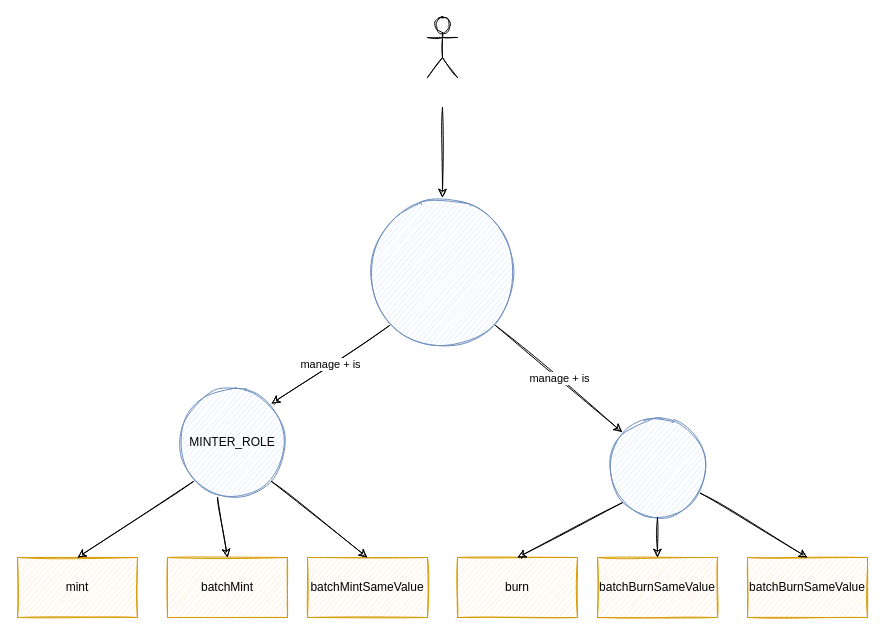
Some shapes in this 885 by 635 pixel diagram are drawn without their labels. Here are the shapes that lost their labels. From the top down, the centre of each, then its label:
At pixel 442 47: "Admin (Can be several Ethereum accounts)".
At pixel 442 272: "DEFAULT_ADMIN_ROLE".
At pixel 657 467: "BURNER_ROLE".
